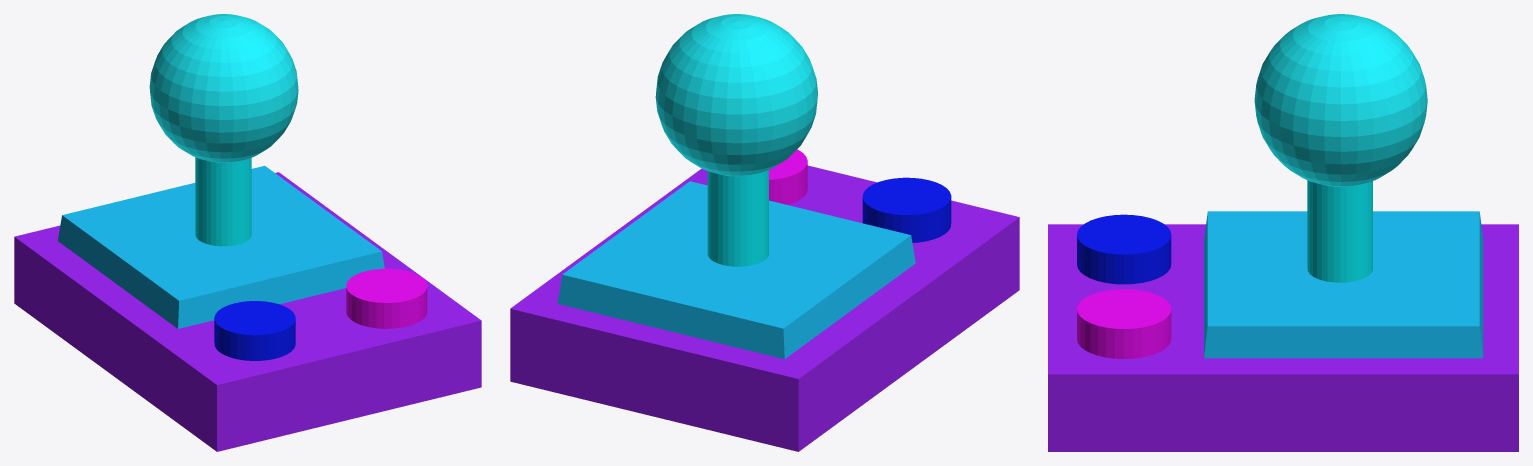
The model's file is joyStick_colored 1.fbx.
The picture shows the model from 3 angles, left to right: view 1: azimuth 30°, elevation 25°; view 2: azimuth 150°, elevation 25°; view 3: azimuth 270°, elevation 25°; orthographic projection. The views are drawn at different scales.
Parts seen in each view (by area): view 1: Cylinder.002; view 2: Cylinder.002; view 3: Cylinder.002.
Part boxes in pixels (x1,y1,x2,y2): Cylinder.002: (14,14,481,451); Cylinder.002: (510,14,1019,451); Cylinder.002: (1048,14,1518,451).
Size of the model in its own units: 151 by 167 by 200.
